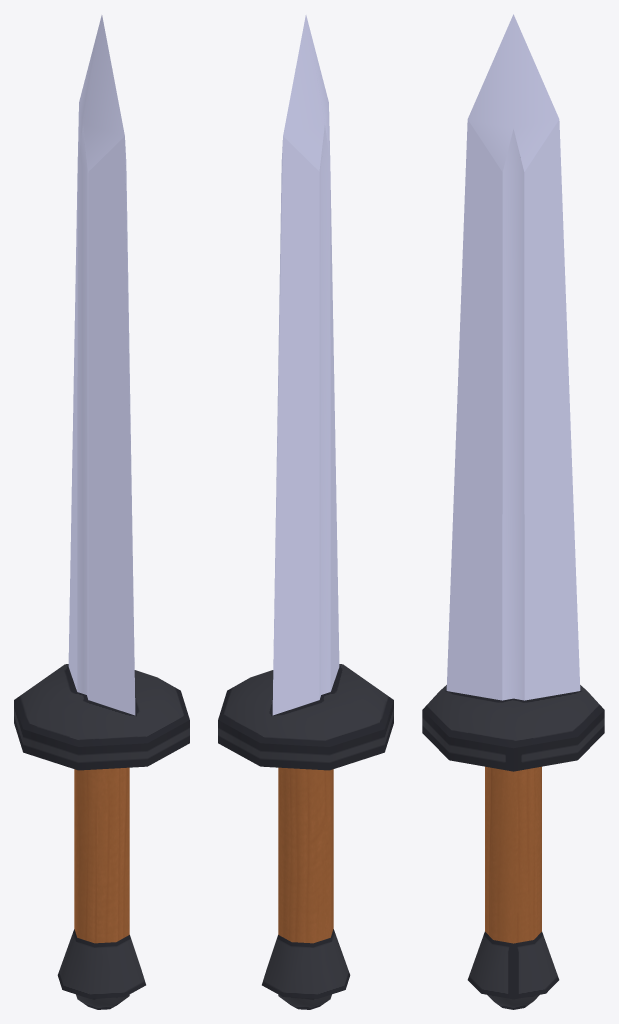
The model's file is models-sword-01.glb.
3 views of the same model, side by side, from view 1: azimuth 30°, elevation 25°; view 2: azimuth 150°, elevation 25°; view 3: azimuth 270°, elevation 25° (orthographic).
Parts seen in each view (by area): view 1: SM_Sword_01; view 2: SM_Sword_01; view 3: SM_Sword_01.
Boxes of the visible parts, x1,y1,x2,y2 form: SM_Sword_01: (14,15,189,1009); SM_Sword_01: (218,15,393,1009); SM_Sword_01: (422,14,604,1009).
Size of the model in its own units: 0.1473 by 0.8828 by 0.1473.
1 material, 1 textured.
